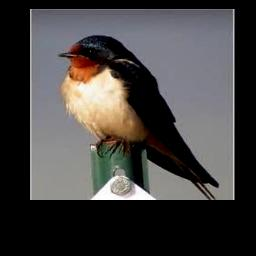Swallow: (57, 34, 220, 200)
